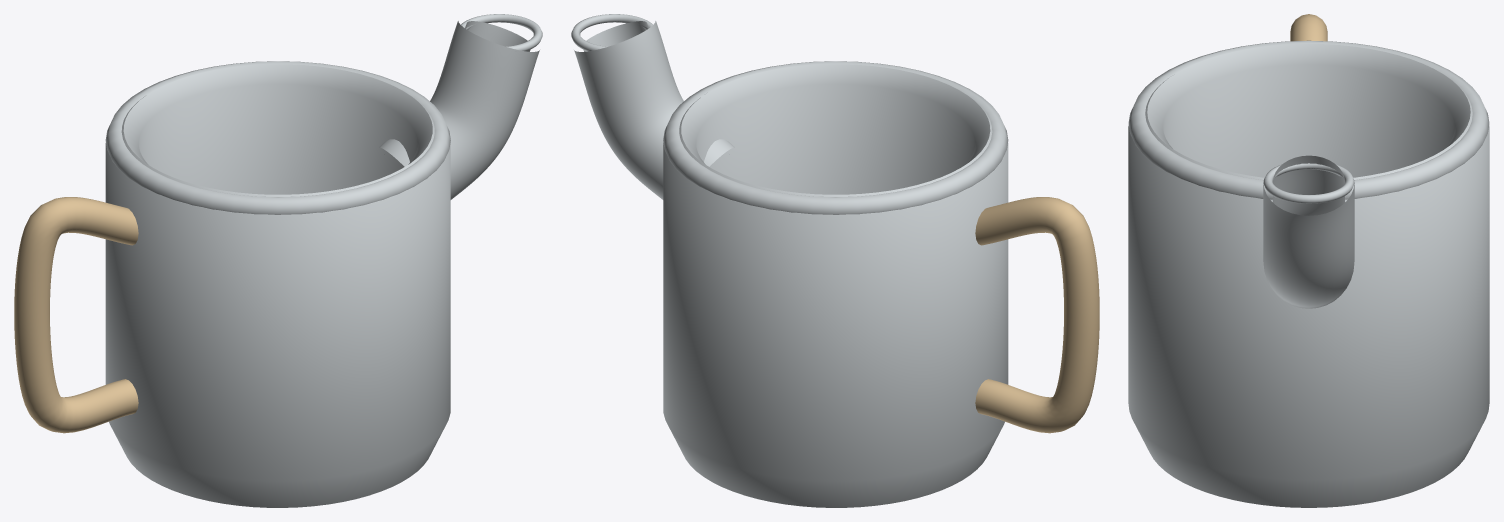
The model's file is candlemaking-and-soap-workshop-wax-pouring-pitcher-215e6bed__30650.glb.
The picture shows the model from 3 angles, left to right: view 1: azimuth 30°, elevation 25°; view 2: azimuth 150°, elevation 25°; view 3: azimuth 270°, elevation 25°; orthographic projection. The views are drawn at different scales.
Visible parts, largest first — view 1: wax-pouring-pitcher; view 2: wax-pouring-pitcher; view 3: wax-pouring-pitcher.
Boxes of the visible parts, bbox=[...] form: wax-pouring-pitcher: bbox=[14, 14, 542, 507]; wax-pouring-pitcher: bbox=[571, 14, 1099, 507]; wax-pouring-pitcher: bbox=[1128, 14, 1489, 507].
Size of the model in its own units: 0.4004 by 0.2711 by 0.23.
